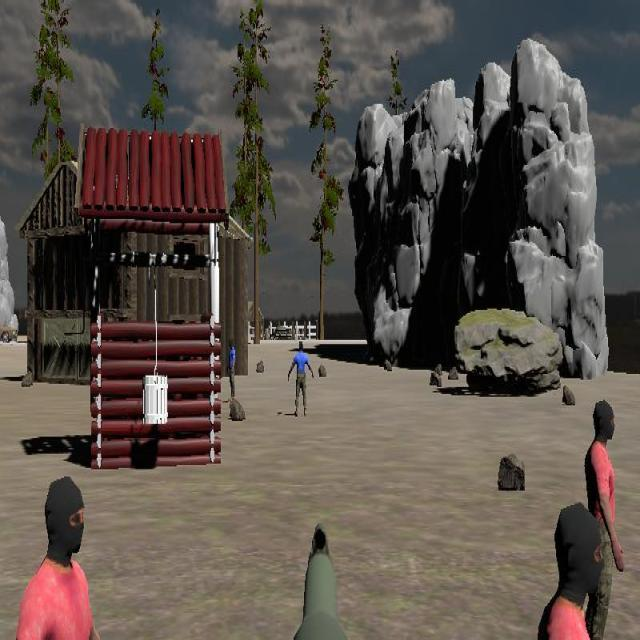Human: (585, 399, 625, 636), (288, 341, 315, 417)
